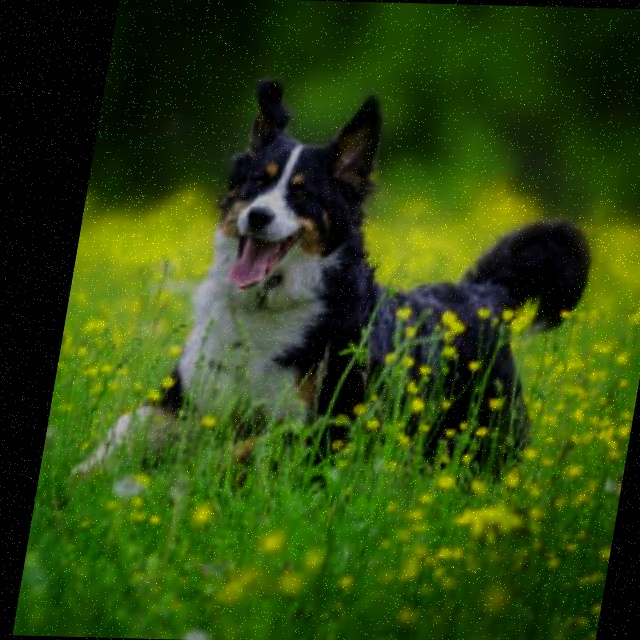dog: (178, 65, 422, 335)
